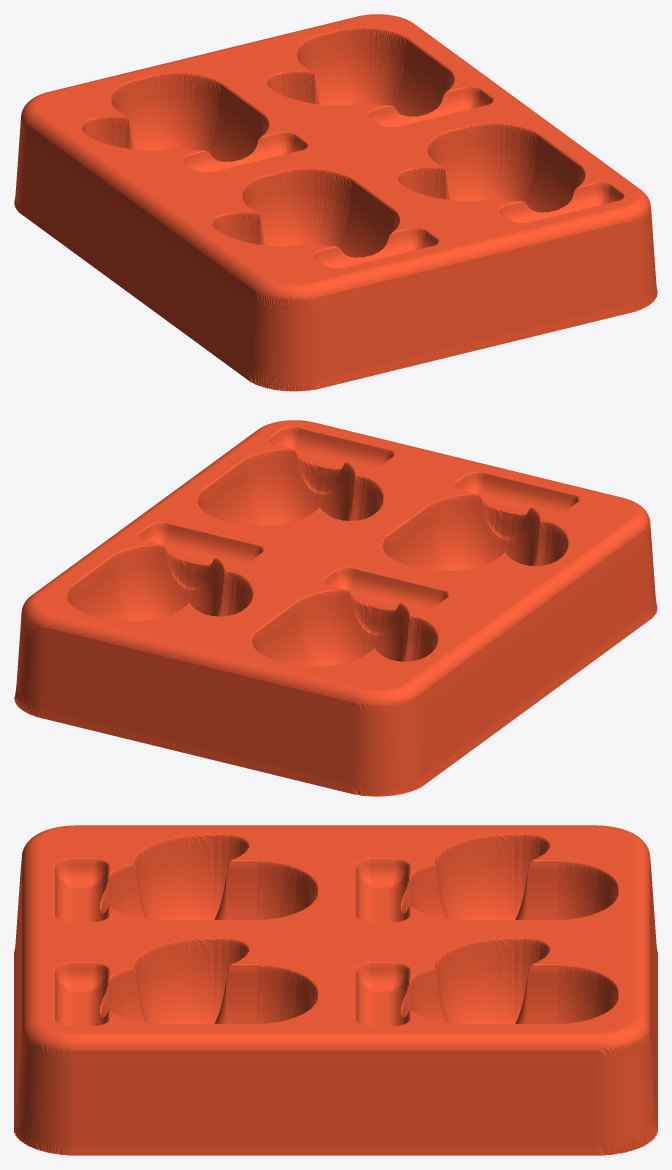
Rendered from mold.glb.
3 views of the same model, one above another, from view 1: azimuth 30°, elevation 25°; view 2: azimuth 150°, elevation 25°; view 3: azimuth 270°, elevation 25° (orthographic). The views are drawn at different scales.
Parts seen in each view (by area): view 1: geometry_0; view 2: geometry_0; view 3: geometry_0.
Part boxes in pixels (bbox=[...]): geometry_0: bbox=[14, 14, 657, 391]; geometry_0: bbox=[14, 420, 657, 796]; geometry_0: bbox=[14, 825, 657, 1155].
Size of the model in its own units: 0.0782 by 0.0182 by 0.0942.
